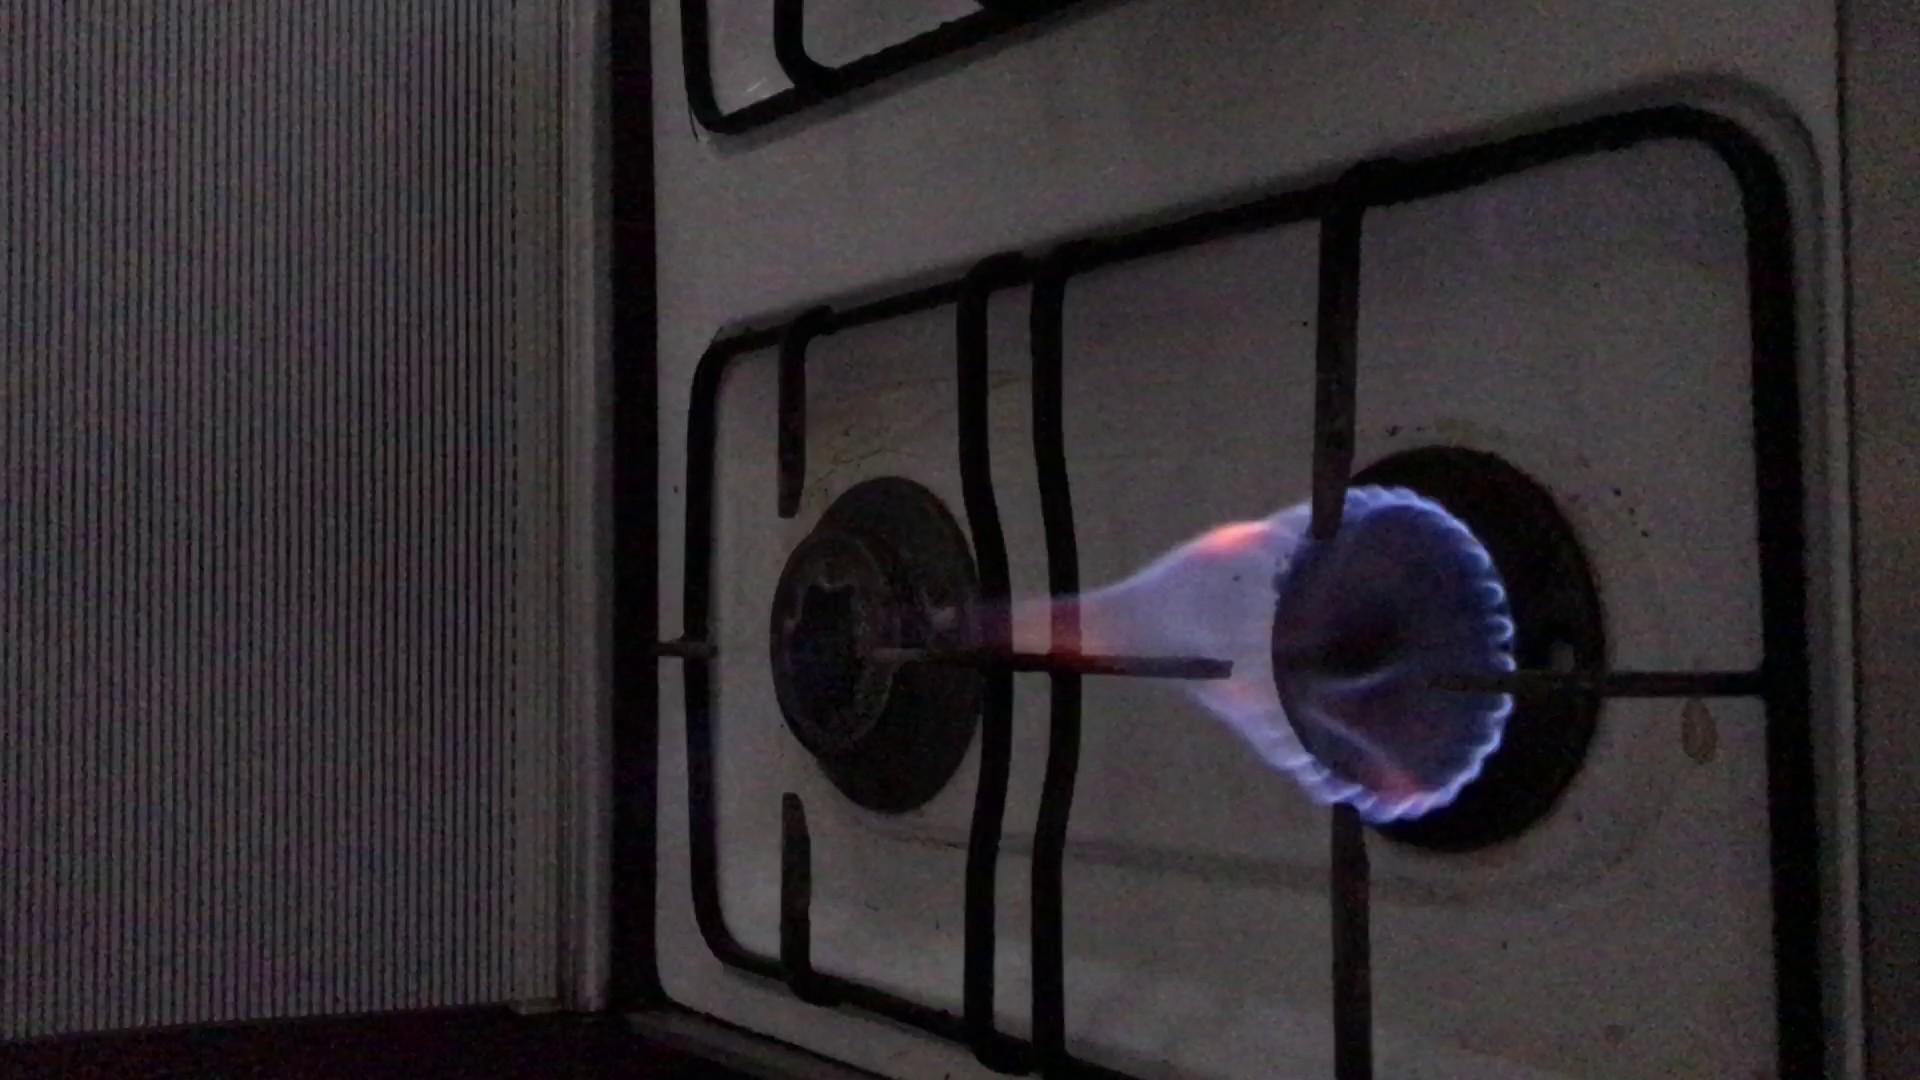fire: (956, 497, 1560, 795)
